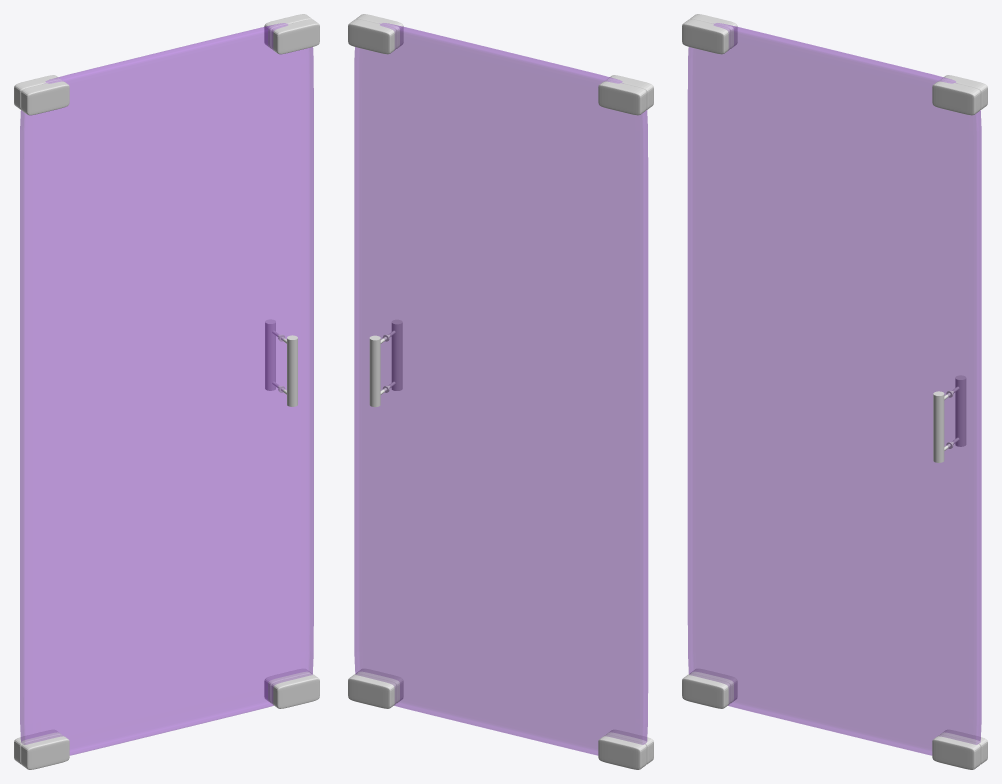
File: PUERTA DE ENTRADA.fbx
The picture shows the model from 3 angles, left to right: view 1: azimuth 30°, elevation 25°; view 2: azimuth 150°, elevation 25°; view 3: azimuth 330°, elevation 25°; orthographic projection.
Visible parts, largest first — view 1: Puerta, Cube.002, Cube.001, Cube.003, Cube, Cylinder, Cylinder.002; view 2: Puerta, Cube.006, Cube.005, Cube.007, Cube.004, Cylinder.002, Cylinder; view 3: Puerta, Cube.001, Cube.002, Cube, Cube.003, Cylinder, Cylinder.002.
Part boxes in pixels (x1=…): Puerta: x1=20, y1=23, x2=313, y2=755; Cube.002: x1=271, y1=19, x2=319, y2=54; Cube.001: x1=21, y1=80, x2=69, y2=115; Cube.003: x1=271, y1=673, x2=319, y2=708; Cube: x1=21, y1=734, x2=69, y2=769; Cylinder: x1=287, y1=335, x2=297, y2=406; Cylinder.002: x1=265, y1=319, x2=275, y2=390; Puerta: x1=354, y1=23, x2=648, y2=755; Cube.006: x1=348, y1=19, x2=396, y2=54; Cube.005: x1=598, y1=80, x2=646, y2=115; Cube.007: x1=348, y1=673, x2=396, y2=708; Cube.004: x1=598, y1=734, x2=646, y2=769; Cylinder.002: x1=369, y1=335, x2=380, y2=407; Cylinder: x1=391, y1=319, x2=402, y2=390; Puerta: x1=687, y1=23, x2=981, y2=755; Cube.001: x1=682, y1=19, x2=730, y2=54; Cube.002: x1=932, y1=80, x2=980, y2=115; Cube: x1=682, y1=673, x2=730, y2=708; Cube.003: x1=932, y1=734, x2=980, y2=769; Cylinder: x1=933, y1=391, x2=944, y2=462; Cylinder.002: x1=955, y1=375, x2=966, y2=446.
Bounding box in the file's own units: 91.84 × 203 × 14.88.
